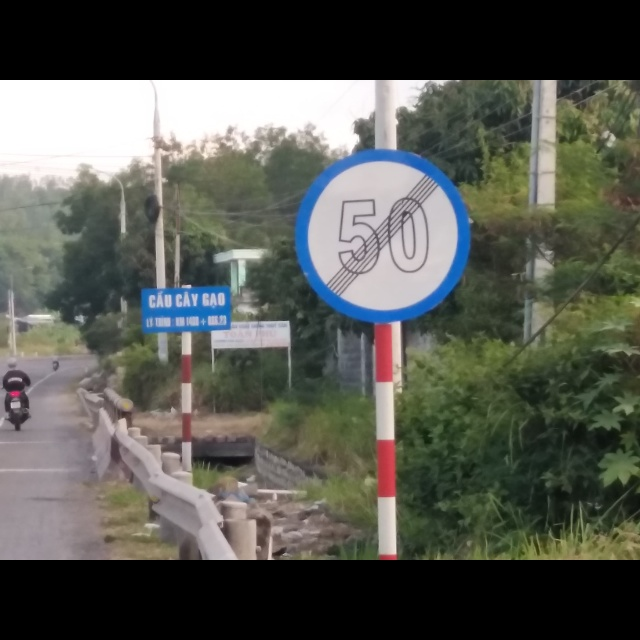Hết hạn chế tốc độ tối đa 50km/h: (294, 147, 472, 321)
